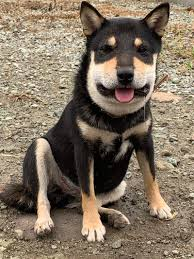dog: (94, 36, 154, 113)
